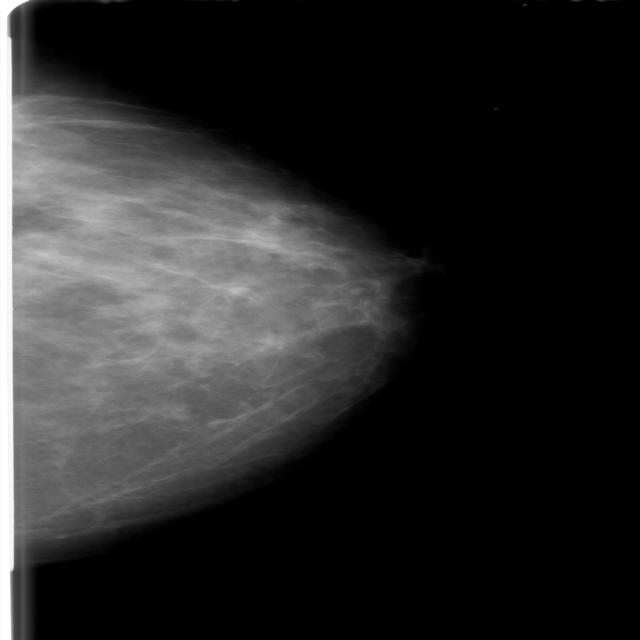cancer: (32, 179, 380, 341)
